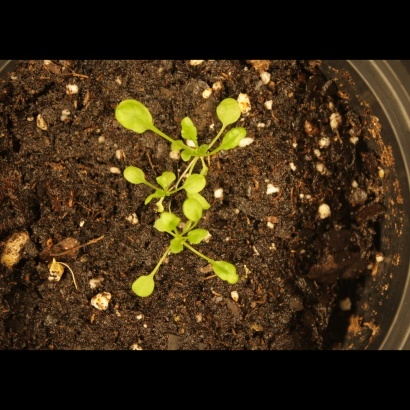leaf: (110, 93, 162, 140), (209, 255, 247, 289), (115, 161, 154, 193), (129, 266, 160, 302), (213, 128, 251, 157), (214, 91, 243, 127), (176, 112, 203, 145), (150, 210, 184, 235), (181, 195, 208, 224), (186, 226, 215, 249), (184, 170, 207, 194), (165, 233, 188, 256), (156, 168, 179, 191), (160, 132, 183, 155), (139, 188, 162, 211), (186, 143, 209, 166)
